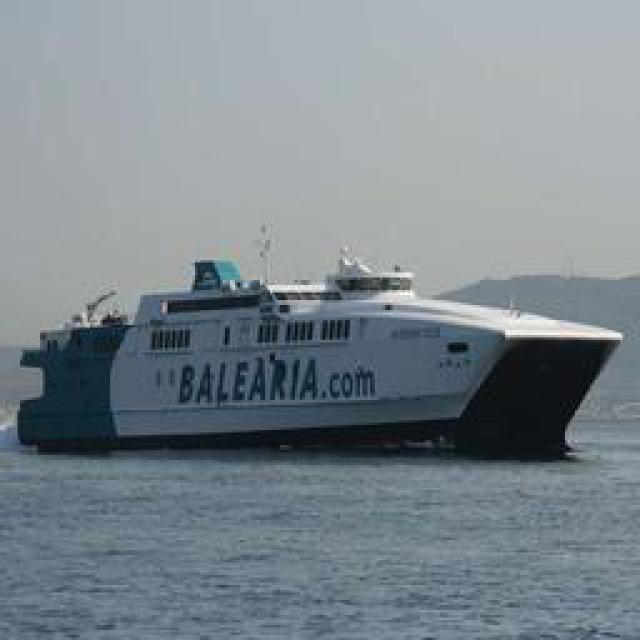Ship: (30, 247, 625, 455)
